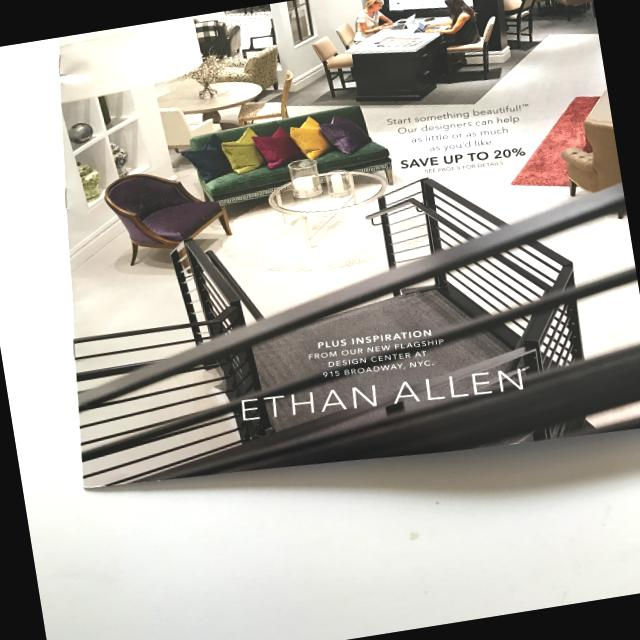Paper: (15, 0, 640, 514)
